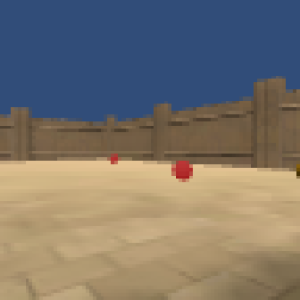badGoal: (169, 156, 196, 183), (107, 152, 123, 164)
